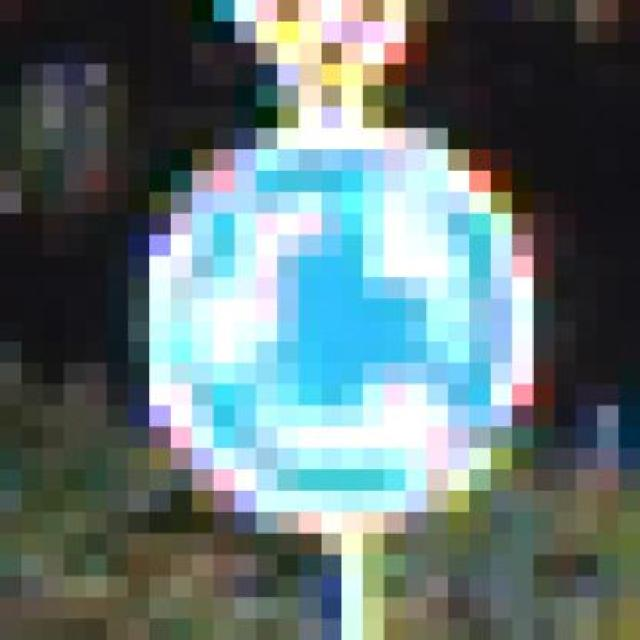Round-About: (107, 86, 576, 554)
